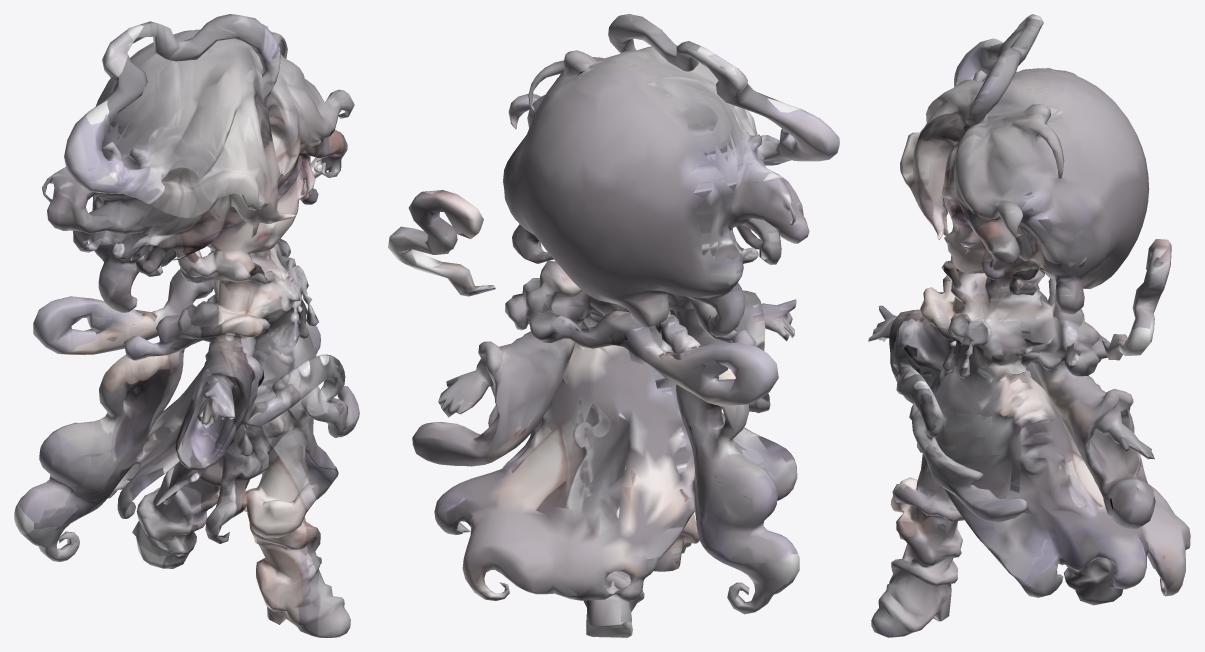
File: fog_painted.glb
The picture shows the model from 3 angles, left to right: view 1: azimuth 30°, elevation 25°; view 2: azimuth 150°, elevation 25°; view 3: azimuth 270°, elevation 25°; orthographic projection. The views are drawn at different scales.
Parts seen in each view (by area): view 1: Body; view 2: Body; view 3: Body.
Part boxes in pixels (<box>): Body: <box>14,14,359,637</box>; Body: <box>388,14,839,637</box>; Body: <box>868,14,1190,637</box>.
Size of the model in its own units: 0.6506 by 0.9995 by 0.5219.
2 materials, 2 textured.
